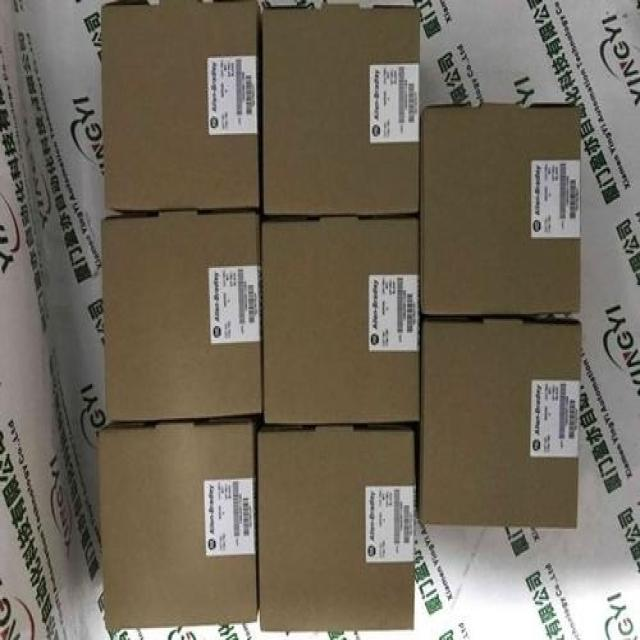box: (417, 317, 582, 529), (97, 416, 259, 630), (101, 0, 261, 215), (101, 210, 262, 422), (421, 101, 580, 314), (264, 3, 421, 217), (256, 423, 416, 631), (262, 217, 420, 423)
